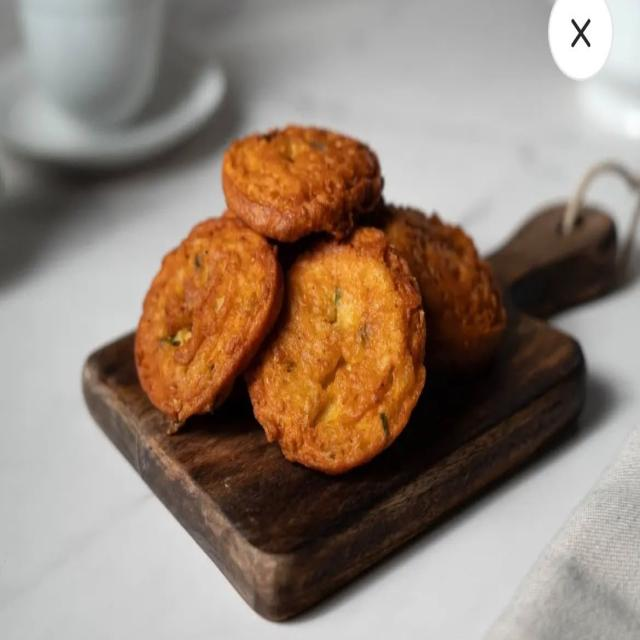Kebab: (135, 124, 510, 480), (136, 126, 506, 479)
